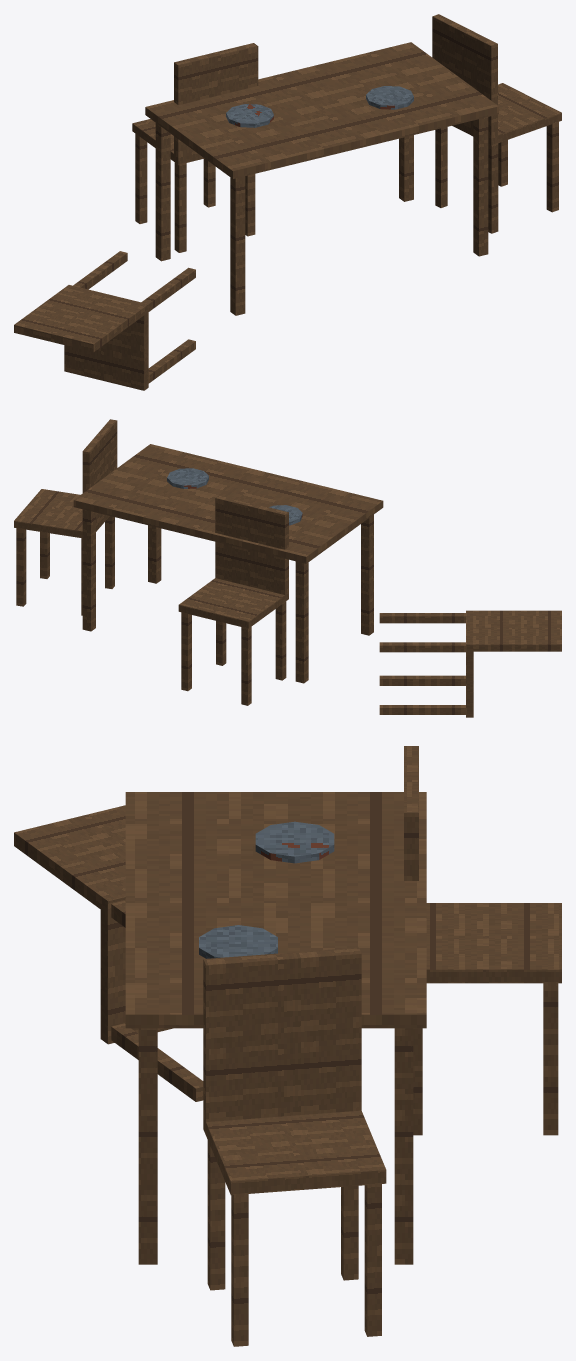
The model's file is dining.gltf.
3 renders of one model, top to bottom at view 1: azimuth 30°, elevation 25°; view 2: azimuth 150°, elevation 25°; view 3: azimuth 270°, elevation 25°, orthographic. The views are drawn at different scales.
Parts seen in each view (by area): view 1: dining; view 2: dining; view 3: dining.
Part boxes in pixels (x1,y1,x2,y2): dining: (14, 14, 561, 390); dining: (14, 419, 561, 717); dining: (14, 746, 561, 1346).
Bounding box in the file's own units: 3.01 × 1.16 × 1.46.
2 materials, 2 textured.
